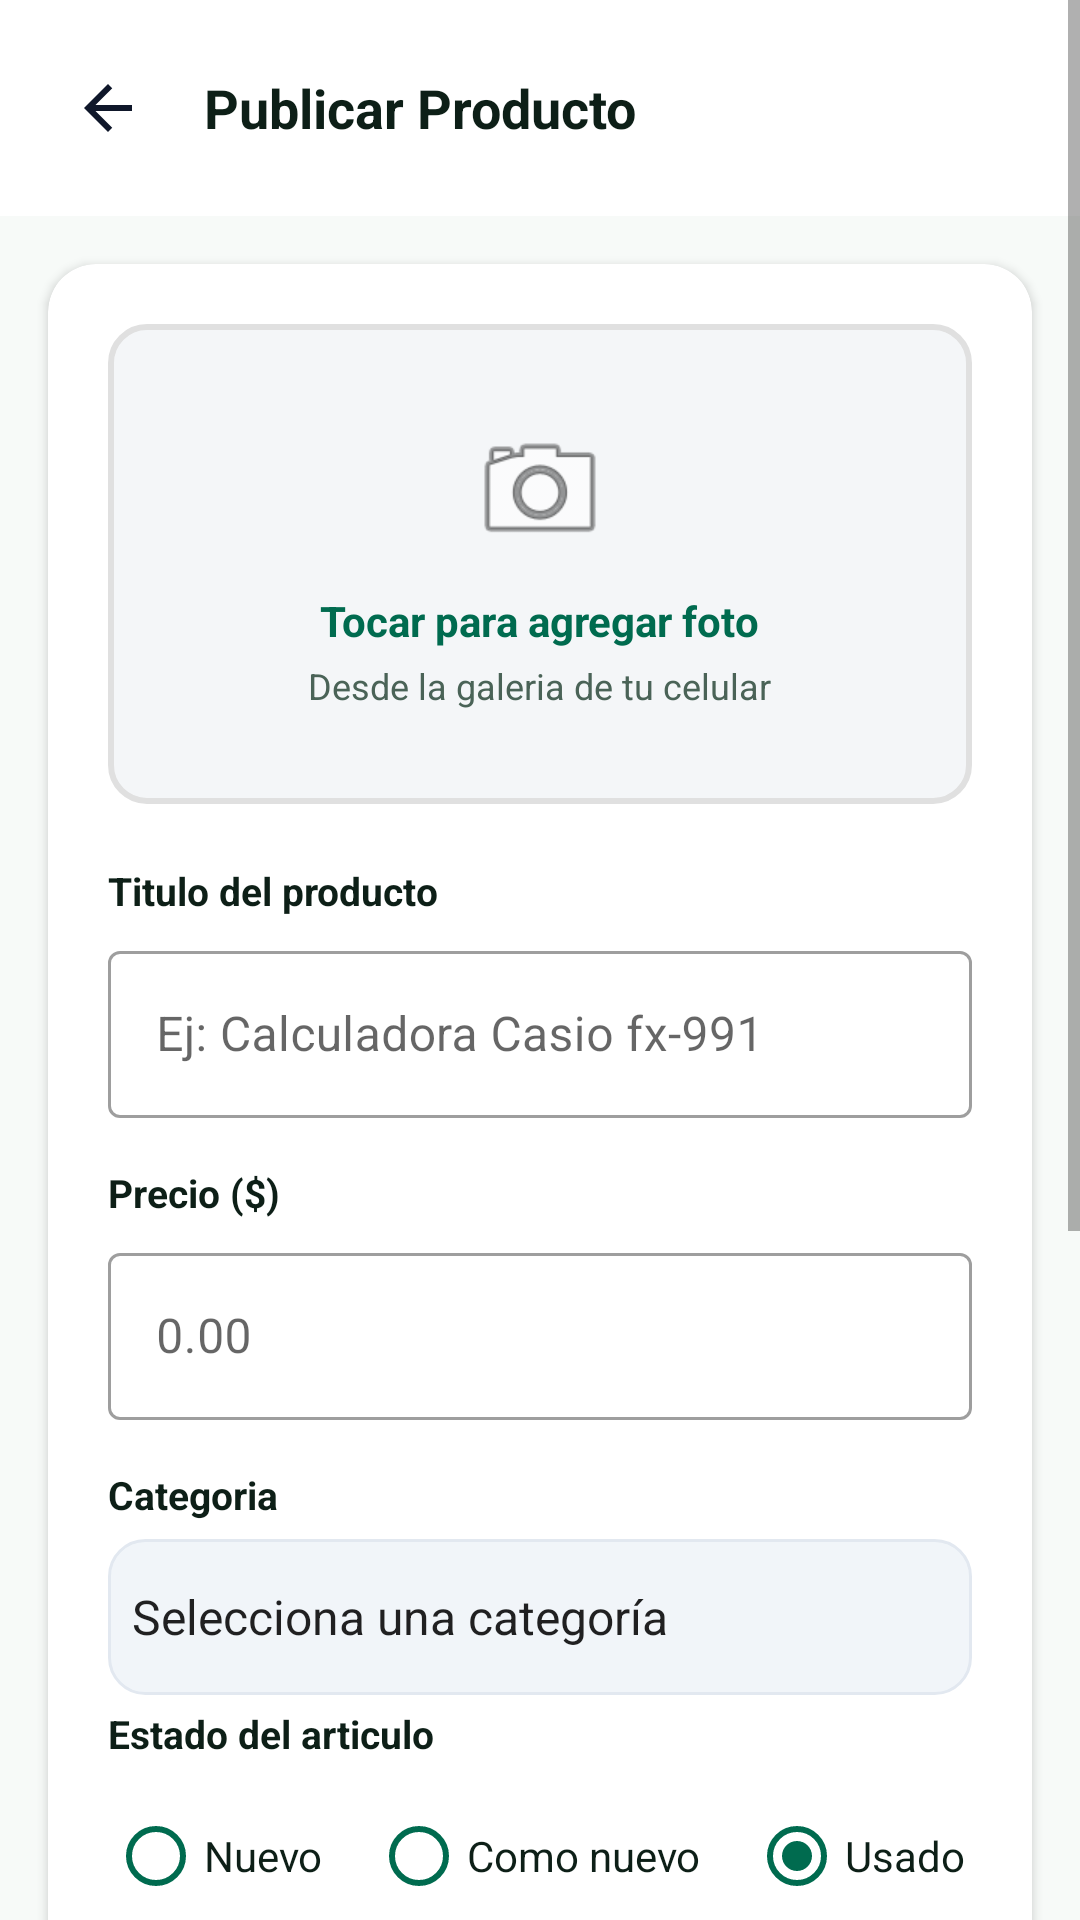

Locate icon controls on the screen. Image size 1080 × 1920, boxes as (x1, y1, x2, y2).
camera: (484, 443, 596, 532)
Volver: (84, 84, 132, 132)
